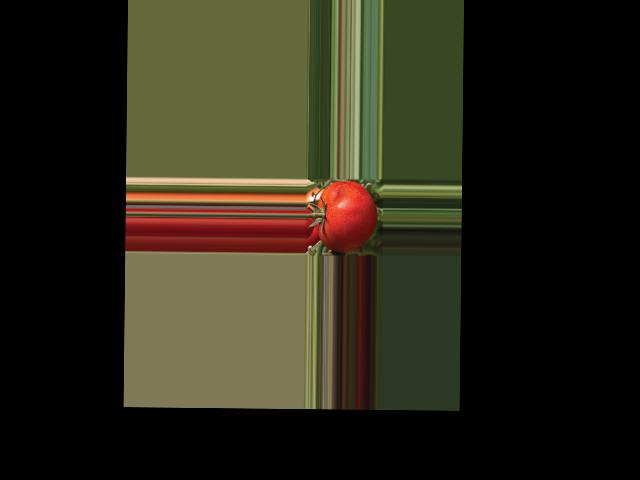tomato: (315, 180, 377, 252)
